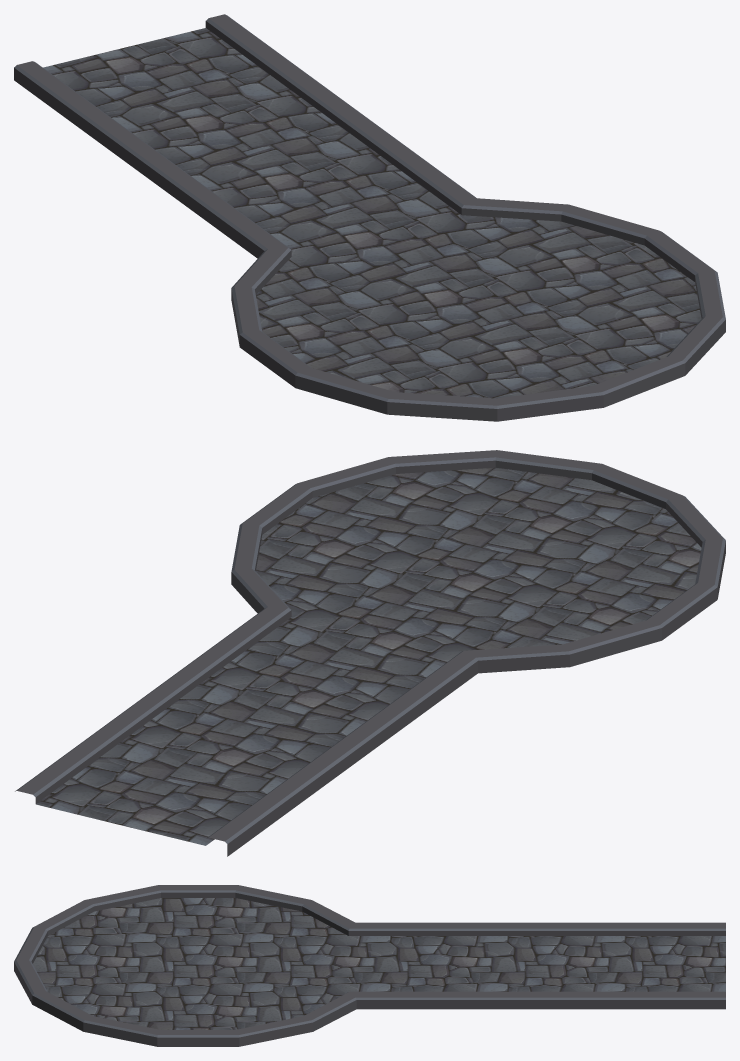
File: pavementOneWay.glb
The picture shows the model from 3 angles, top to bottom: view 1: azimuth 30°, elevation 25°; view 2: azimuth 150°, elevation 25°; view 3: azimuth 270°, elevation 25°; orthographic projection. The views are drawn at different scales.
Parts seen in each view (by area): view 1: PavementOneWay; view 2: PavementOneWay; view 3: PavementOneWay.
Part boxes in pixels (x1,y1,x2,y2): PavementOneWay: (14,14,725,421); PavementOneWay: (15,450,725,856); PavementOneWay: (14,885,725,1046).
Size of what is drawn, in the model's own units: 8.17 by 0.271 by 16.19.
Materials: 1 (1 with a texture image).
